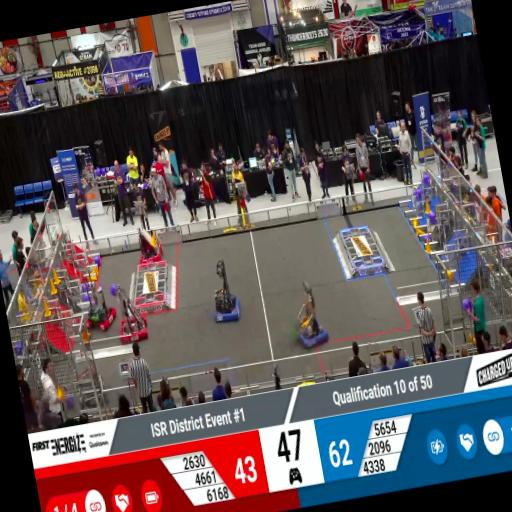robot: (291, 295, 331, 355), (80, 285, 120, 336), (206, 272, 243, 326), (114, 297, 150, 347), (74, 362, 108, 413), (133, 227, 165, 269)
